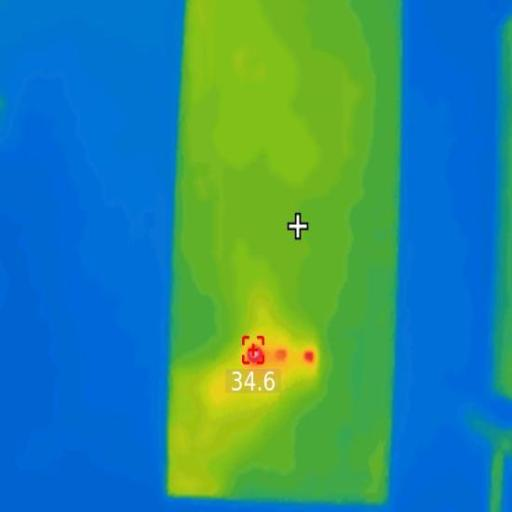hotspot: (247, 345, 263, 369), (303, 349, 316, 368), (278, 350, 289, 368)
